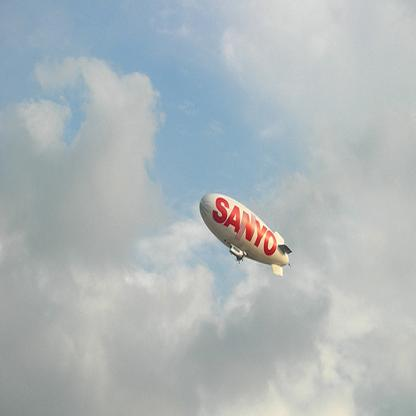Airship: (199, 190, 300, 284)
